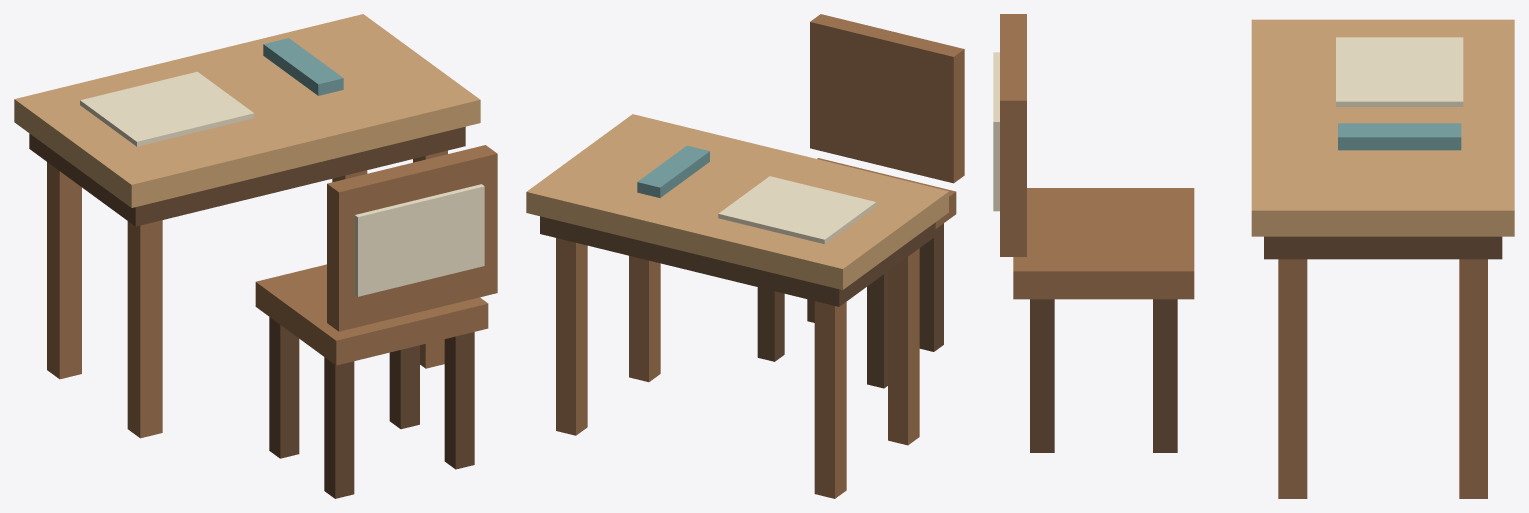
File: study-desk-chair.glb
3 renders of one model, left to right at view 1: azimuth 30°, elevation 25°; view 2: azimuth 150°, elevation 25°; view 3: azimuth 270°, elevation 25°, orthographic. The views are drawn at different scales.
Parts seen in each view (by area): view 1: study-desk-chair_woodLight, study-desk-chair_wood, study-desk-chair_woodDark, study-desk-chair_cream, study-desk-chair_bookBlue; view 2: study-desk-chair_wood, study-desk-chair_woodLight, study-desk-chair_woodDark, study-desk-chair_cream, study-desk-chair_bookBlue; view 3: study-desk-chair_woodLight, study-desk-chair_wood, study-desk-chair_woodDark, study-desk-chair_cream, study-desk-chair_bookBlue.
Boxes of the visible parts, bbox=[...] form: study-desk-chair_woodLight: bbox=[14, 14, 480, 207]; study-desk-chair_wood: bbox=[47, 145, 497, 438]; study-desk-chair_woodDark: bbox=[29, 126, 474, 498]; study-desk-chair_cream: bbox=[80, 71, 484, 296]; study-desk-chair_bookBlue: bbox=[263, 38, 343, 95]; study-desk-chair_wood: bbox=[556, 14, 964, 498]; study-desk-chair_woodLight: bbox=[526, 114, 948, 289]; study-desk-chair_woodDark: bbox=[540, 216, 943, 388]; study-desk-chair_cream: bbox=[718, 176, 876, 244]; study-desk-chair_bookBlue: bbox=[637, 145, 709, 197]; study-desk-chair_woodLight: bbox=[1251, 19, 1514, 236]; study-desk-chair_wood: bbox=[1000, 14, 1487, 498]; study-desk-chair_woodDark: bbox=[1030, 236, 1502, 452]; study-desk-chair_cream: bbox=[993, 37, 1463, 211]; study-desk-chair_bookBlue: bbox=[1338, 123, 1461, 150].
Size of the model in its own units: 1.1 by 0.96 by 1.27.
